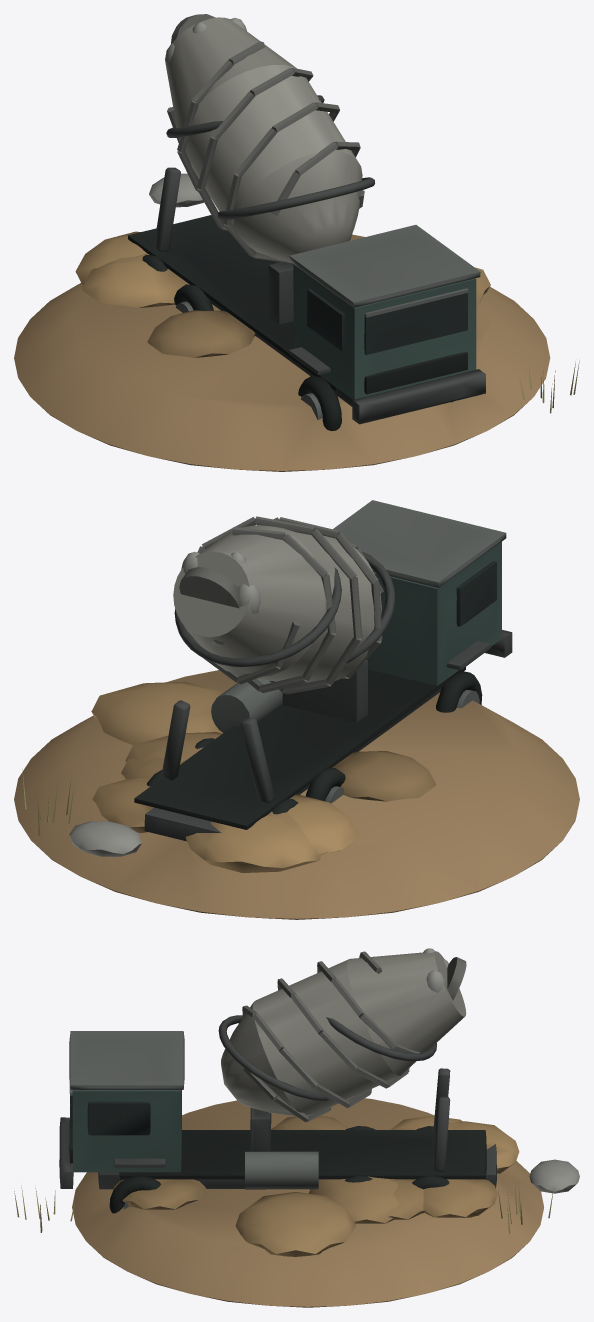
The model's file is mixer_wreck_c_lod1.glb.
3 renders of one model, top to bottom at view 1: azimuth 30°, elevation 25°; view 2: azimuth 150°, elevation 25°; view 3: azimuth 270°, elevation 25°, orthographic. The views are drawn at different scales.
Visible parts, largest first — view 1: Surface.001; view 2: Surface.001; view 3: Surface.001.
Boxes of the visible parts, x1=… form: Surface.001: x1=14, y1=14, x2=579, y2=471; Surface.001: x1=14, y1=500, x2=579, y2=919; Surface.001: x1=14, y1=948, x2=579, y2=1307.
Size of the model in its own units: 9.9 by 5.89 by 11.87.
